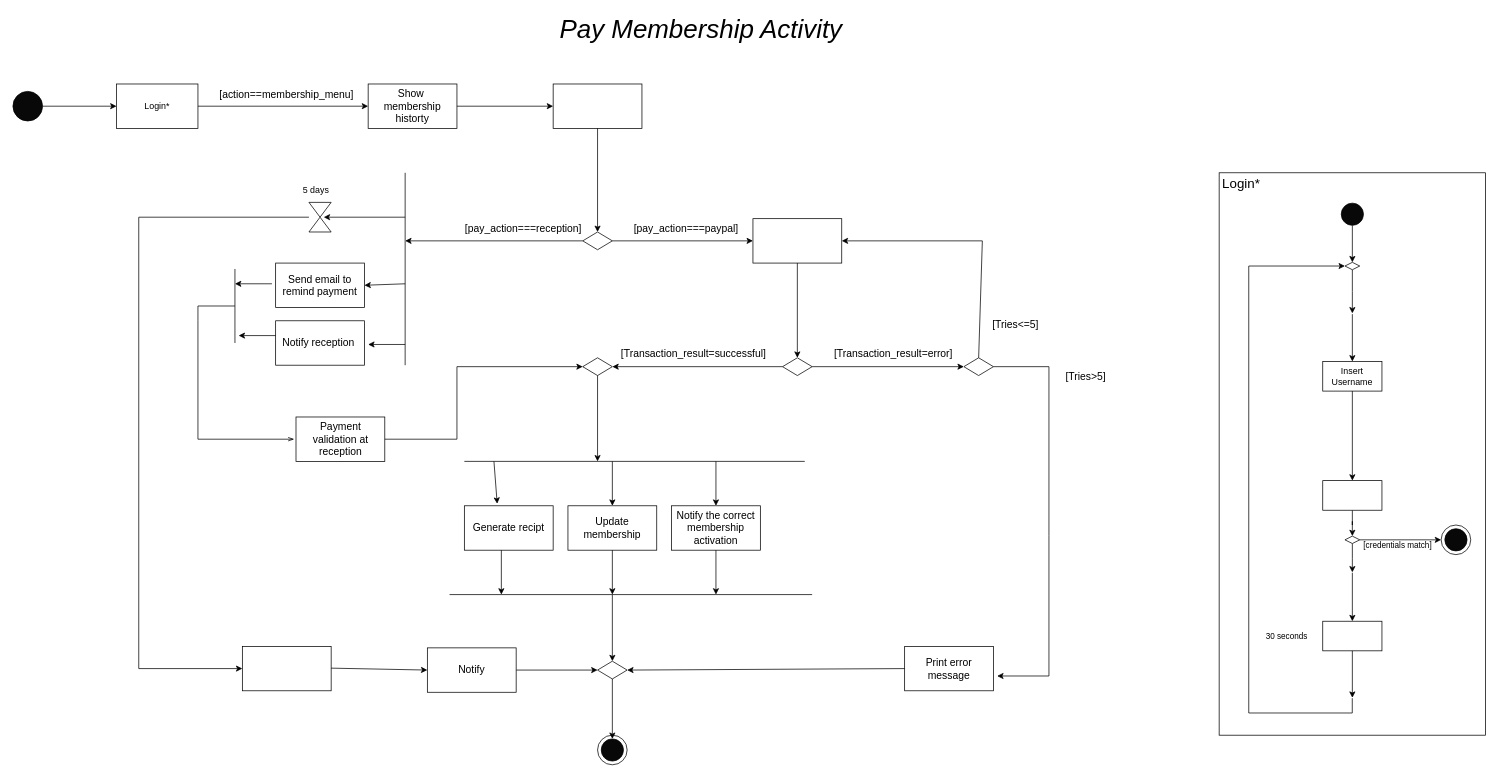
The diagram is 1499 pixels wide and 778 high, and some of its shapes have lost their labels. The centre of each missing label's shape, as x and y in pixels:
"Check Credientals on DB" goes at (1352,495).
"Display Error Message" goes at (1352,635).
"Lunch paypal actor" goes at (797,240).
"Payment time window ended" goes at (286,668).
"Select a membership plan" goes at (597,105).
